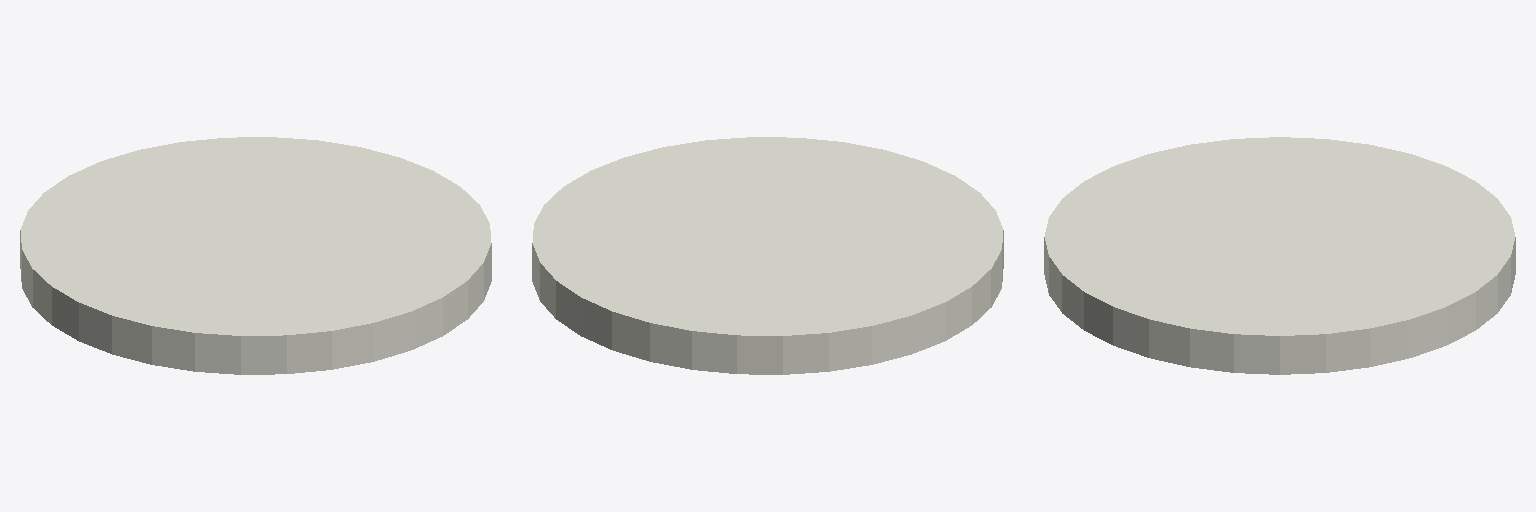
robot.urdf — plate_round:
<?xml version="1.0"?>
<robot name="plate_round">
  <link name="base_link">
    <inertial>
      <origin xyz="0 0 0.010000" rpy="0 0 0"/>
      <mass value="0.35"/>
      <inertia ixx="0.00107042" ixy="0" ixz="0" iyy="0.00107042" iyz="0" izz="0.00211750"/>
    </inertial>
    <visual>
      <origin xyz="0 0 0.010000" rpy="0 0 0"/>
      <geometry><cylinder radius="0.11" length="0.02"/></geometry>
      <material name="plate_round_mat">
        <color rgba="0.92 0.92 0.88 1.0"/>
      </material>
    </visual>
    <collision>
      <origin xyz="0 0 0.010000" rpy="0 0 0"/>
      <geometry><cylinder radius="0.11" length="0.02"/></geometry>
    </collision>
  </link>
</robot>

--- Render facts (derived) ---
3 views of the same robot in one strip: view 1: azimuth 30°, elevation 25°; view 2: azimuth 150°, elevation 25°; view 3: azimuth 270°, elevation 25° (orthographic).
Robot: plate_round — 1 links, 0 joints (none); root link base_link; default pose: all joints at 0.
Links seen in each view (by area): view 1: base_link; view 2: base_link; view 3: base_link.
Link boxes in pixels (x1,y1,x2,y2): base_link: (20, 137, 491, 374); base_link: (532, 137, 1003, 374); base_link: (1044, 137, 1515, 374).
Size in the robot's own frame: 0.22 by 0.22 by 0.02 metres.
Geometry: primitives only (box / cylinder / sphere), no mesh files.
